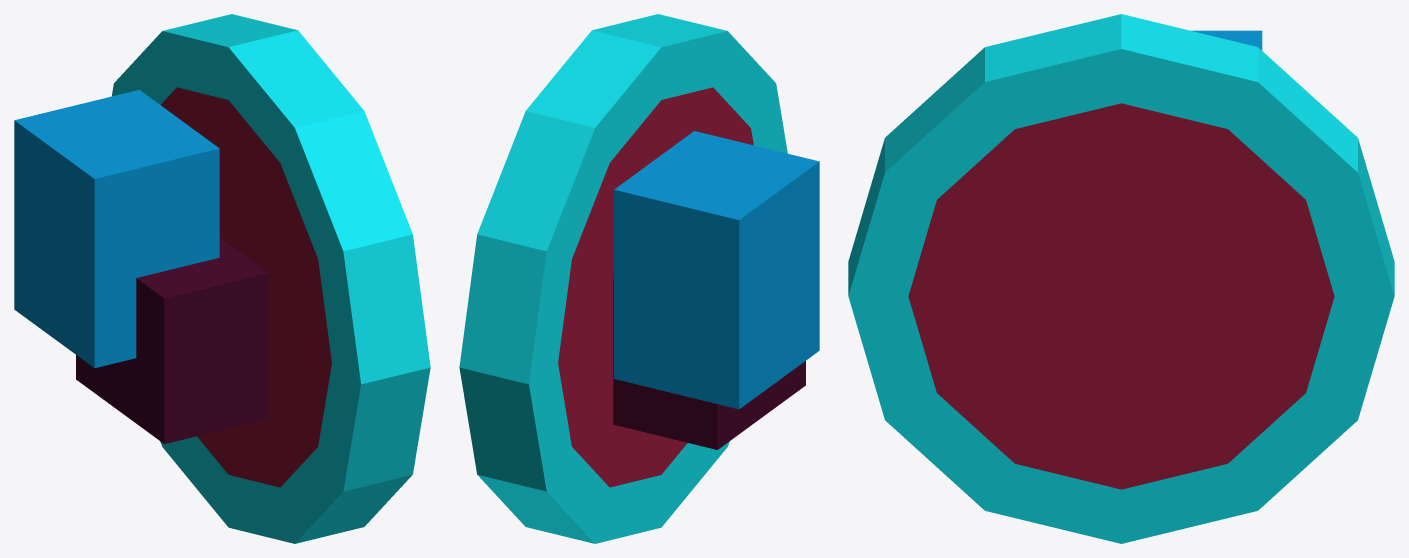
The model's file is hero_arml.glb.
The picture shows the model from 3 angles, left to right: view 1: azimuth 30°, elevation 25°; view 2: azimuth 150°, elevation 25°; view 3: azimuth 270°, elevation 25°; orthographic projection. The views are drawn at different scales.
Visible parts, largest first — view 1: ShieldArm; view 2: ShieldArm; view 3: ShieldArm.
Boxes of the visible parts, x1,y1,x2,y2 form: ShieldArm: (14,14,430,543); ShieldArm: (459,14,819,543); ShieldArm: (848,14,1394,543).
Bounding box in the file's own units: 0.31 × 0.66 × 0.66.
